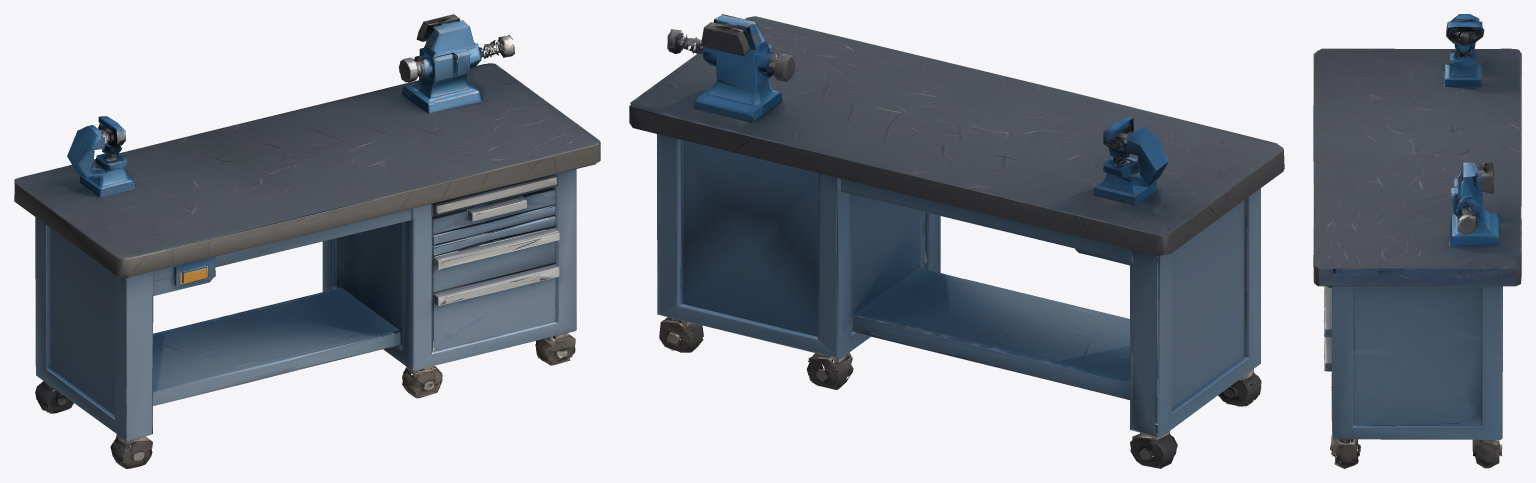
Rendered from workbench.glb.
3 renders of one model, left to right at view 1: azimuth 30°, elevation 25°; view 2: azimuth 150°, elevation 25°; view 3: azimuth 270°, elevation 25°, orthographic. The views are drawn at different scales.
Visible parts, largest first — view 1: Industrial_workbench; view 2: Industrial_workbench; view 3: Industrial_workbench.
Part boxes in pixels (x1=…): Industrial_workbench: x1=14, y1=14, x2=600, y2=468; Industrial_workbench: x1=629, y1=14, x2=1284, y2=468; Industrial_workbench: x1=1313, y1=14, x2=1521, y2=468.
Bounding box in the file's own units: 2 × 1.18 × 0.8007.
Materials: 1 (1 with a texture image).
